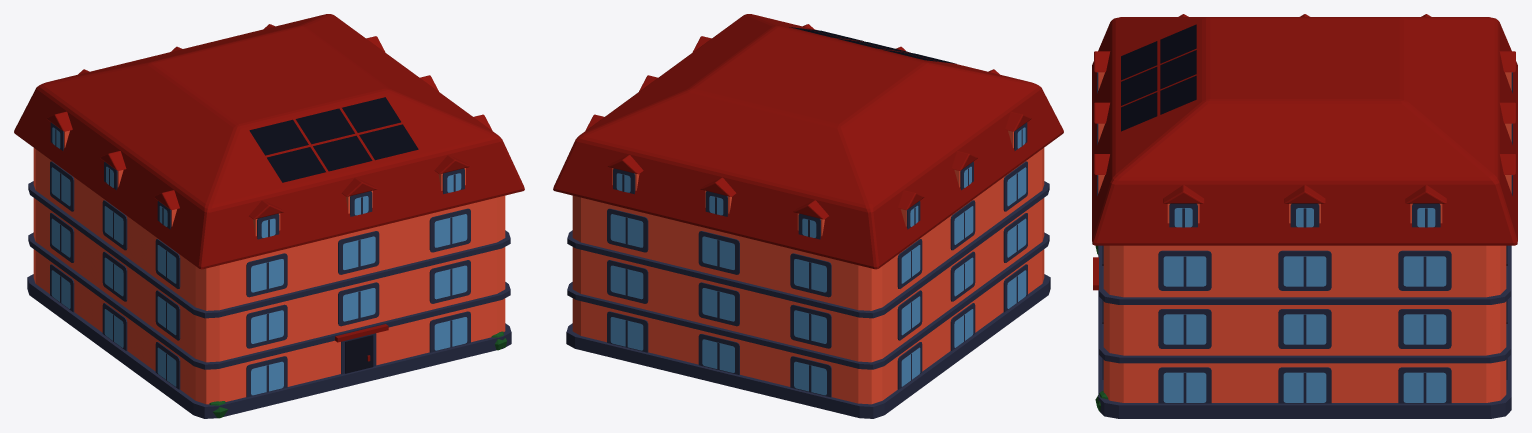
Rendered from house-2x2-3f-mansard-c-solar.glb.
3 views of the same model, side by side, from view 1: azimuth 30°, elevation 25°; view 2: azimuth 150°, elevation 25°; view 3: azimuth 270°, elevation 25° (orthographic). The views are drawn at different scales.
Parts seen in each view (by area): view 1: house-2x2-3f-mansard-c-solar; view 2: house-2x2-3f-mansard-c-solar; view 3: house-2x2-3f-mansard-c-solar.
Boxes of the visible parts, x1,y1,x2,y2 form: house-2x2-3f-mansard-c-solar: (14,14,524,418); house-2x2-3f-mansard-c-solar: (553,14,1063,418); house-2x2-3f-mansard-c-solar: (1092,14,1517,418).
Size of the model in its own units: 1.99 by 1.41 by 1.99.
1 material, 1 textured.
